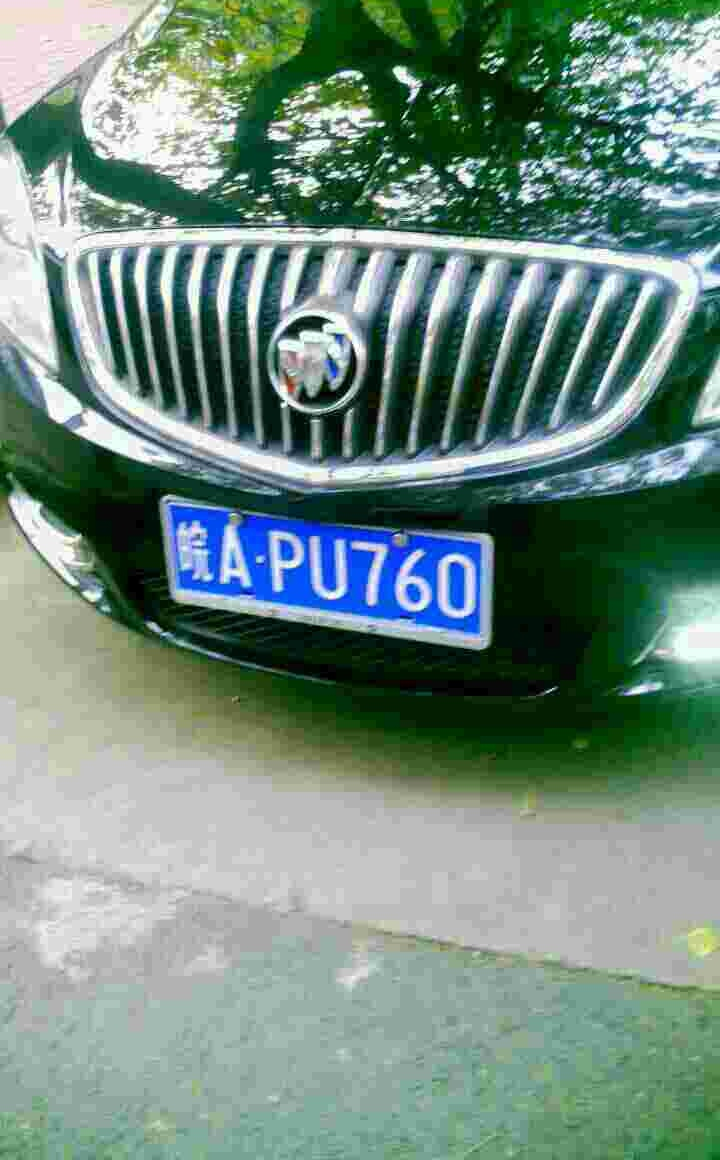license_plate: (165, 497, 494, 639)
